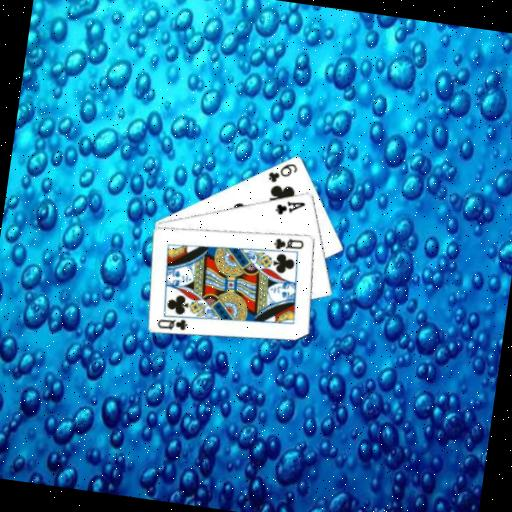6C: (264, 157, 300, 188)
AC: (272, 195, 307, 220)
QC: (270, 233, 306, 255), (154, 313, 190, 334)
